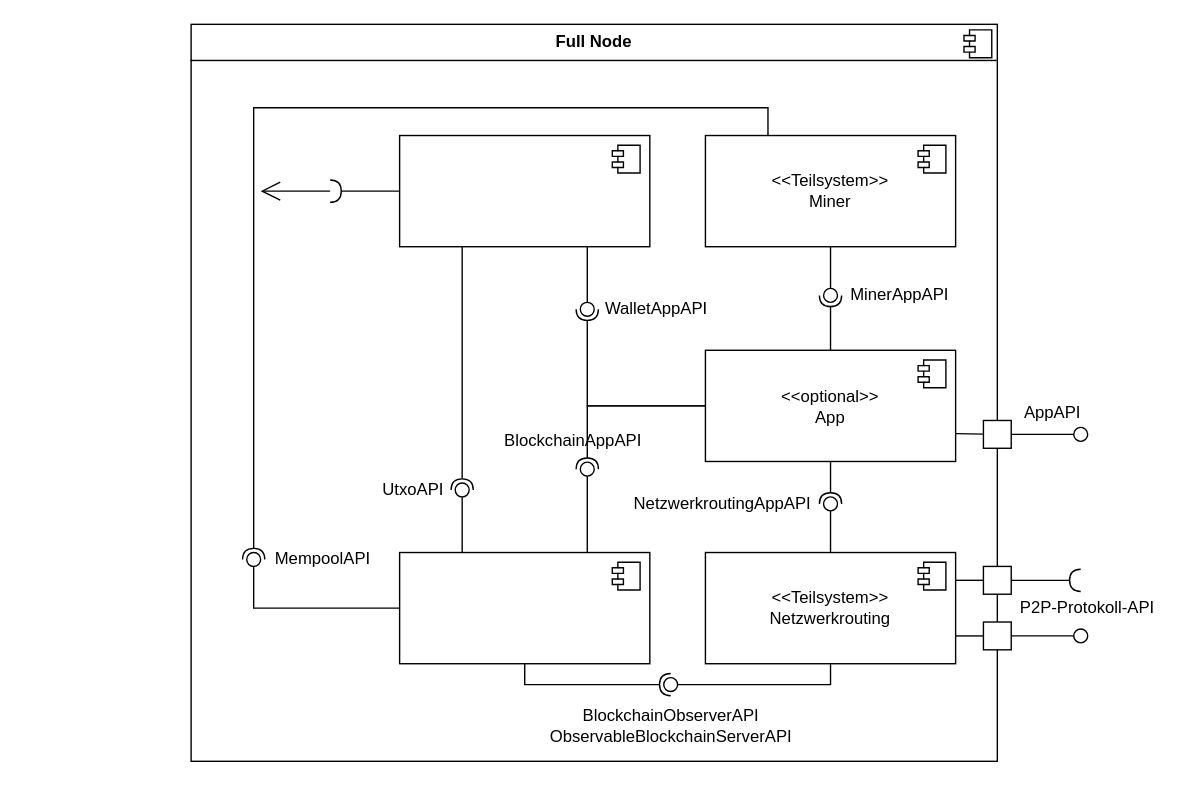
Image size: 1187x787. Some labels were removed from this diagram. Here are the shapes that lost their labels. From the top down, the box of each, then its label:
(398, 134, 650, 247): <<Teilsystem>> Wallet
(398, 551, 650, 664): <<Teilsystem>> Blockchain
